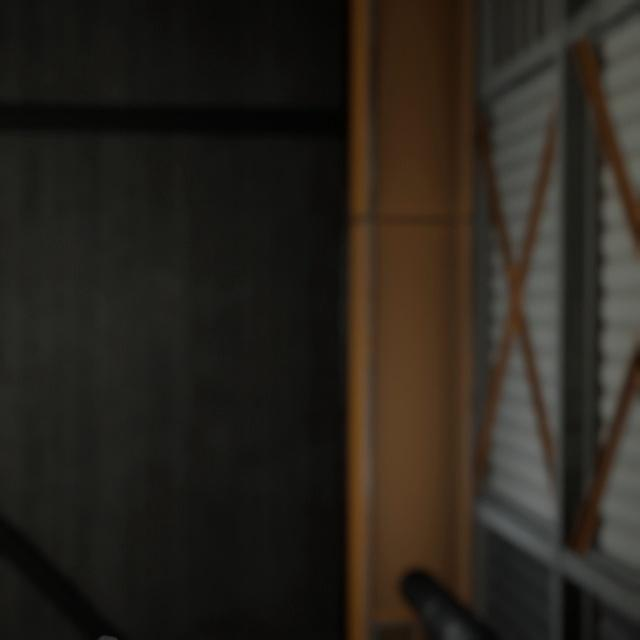bolt: (88, 608, 127, 640)
